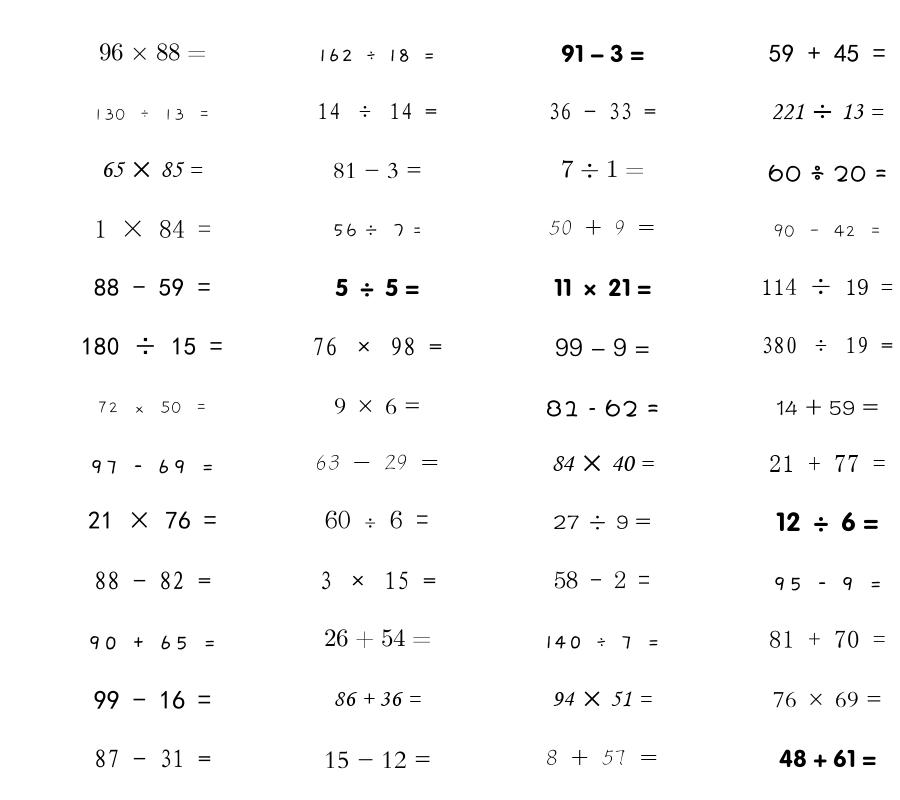MQ: (81, 337, 223, 356), (312, 337, 442, 356), (761, 336, 893, 354), (88, 511, 217, 529), (761, 278, 893, 295), (94, 219, 211, 238), (94, 571, 211, 590), (319, 571, 436, 590), (94, 690, 211, 709), (94, 749, 211, 768), (317, 102, 437, 120), (768, 164, 887, 182), (324, 629, 431, 649), (769, 44, 886, 62), (94, 278, 211, 296), (769, 630, 886, 648), (776, 512, 879, 532), (546, 399, 659, 417), (769, 455, 886, 472), (315, 454, 439, 470), (325, 510, 429, 529), (87, 635, 217, 650), (548, 102, 656, 120), (99, 43, 206, 61), (324, 751, 431, 769), (771, 103, 884, 120), (546, 749, 658, 766), (89, 459, 215, 474), (773, 691, 882, 708), (779, 749, 876, 768), (555, 338, 650, 357), (776, 399, 879, 416), (551, 455, 654, 472), (554, 278, 651, 296), (101, 161, 203, 178), (554, 571, 650, 589), (319, 48, 436, 62), (545, 635, 660, 649), (552, 691, 652, 707), (335, 278, 419, 297), (549, 220, 655, 235), (561, 44, 644, 63), (772, 577, 883, 591), (93, 108, 211, 121), (773, 224, 882, 238), (333, 162, 422, 179), (561, 160, 644, 178), (334, 398, 421, 415), (553, 515, 651, 530), (97, 401, 208, 414), (332, 223, 422, 238), (333, 692, 421, 706)
